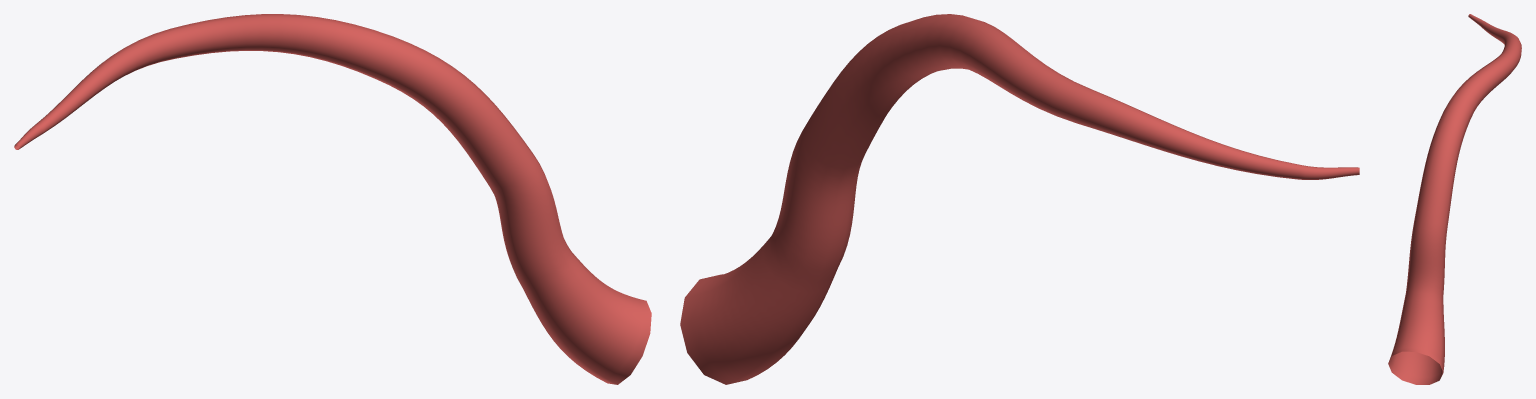
3 views of the same model, side by side, from view 1: azimuth 30°, elevation 25°; view 2: azimuth 150°, elevation 25°; view 3: azimuth 270°, elevation 25° (orthographic). The views are drawn at different scales.
Visible parts, largest first — view 1: 右侧肾动脉后支; view 2: 右侧肾动脉后支; view 3: 右侧肾动脉后支.
Boxes of the visible parts, x1,y1,x2,y2 form: 右侧肾动脉后支: [14, 14, 651, 384]; 右侧肾动脉后支: [680, 14, 1359, 384]; 右侧肾动脉后支: [1388, 14, 1521, 384].
Bounding box in the file's own units: 0.0649 × 0.041 × 0.0209.
